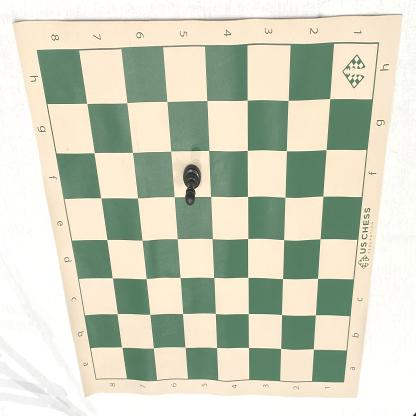black-pawn: (182, 163, 202, 208)
